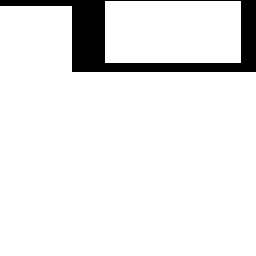rumex: (72, 72, 256, 256), (0, 6, 71, 256), (105, 1, 240, 62)
